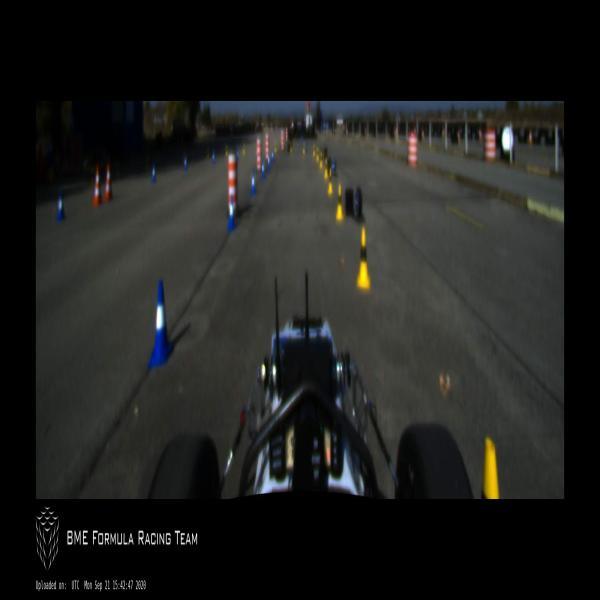blue_cone: (148, 279, 172, 369), (227, 194, 236, 233), (56, 190, 64, 222), (251, 171, 256, 197), (261, 160, 265, 179), (152, 164, 156, 182), (267, 154, 271, 170), (184, 156, 187, 170), (236, 147, 239, 161), (271, 150, 274, 163), (212, 151, 215, 162)
large_orange_cone: (92, 167, 102, 207), (104, 163, 113, 202)
yellow_cone: (482, 437, 500, 498), (356, 226, 370, 290), (335, 183, 343, 221), (328, 168, 332, 194), (324, 158, 328, 178), (316, 147, 319, 162), (320, 151, 322, 169), (290, 141, 292, 154), (226, 144, 228, 157), (313, 144, 315, 156), (303, 143, 305, 154), (275, 142, 277, 153), (242, 143, 244, 154), (207, 148, 209, 158)
